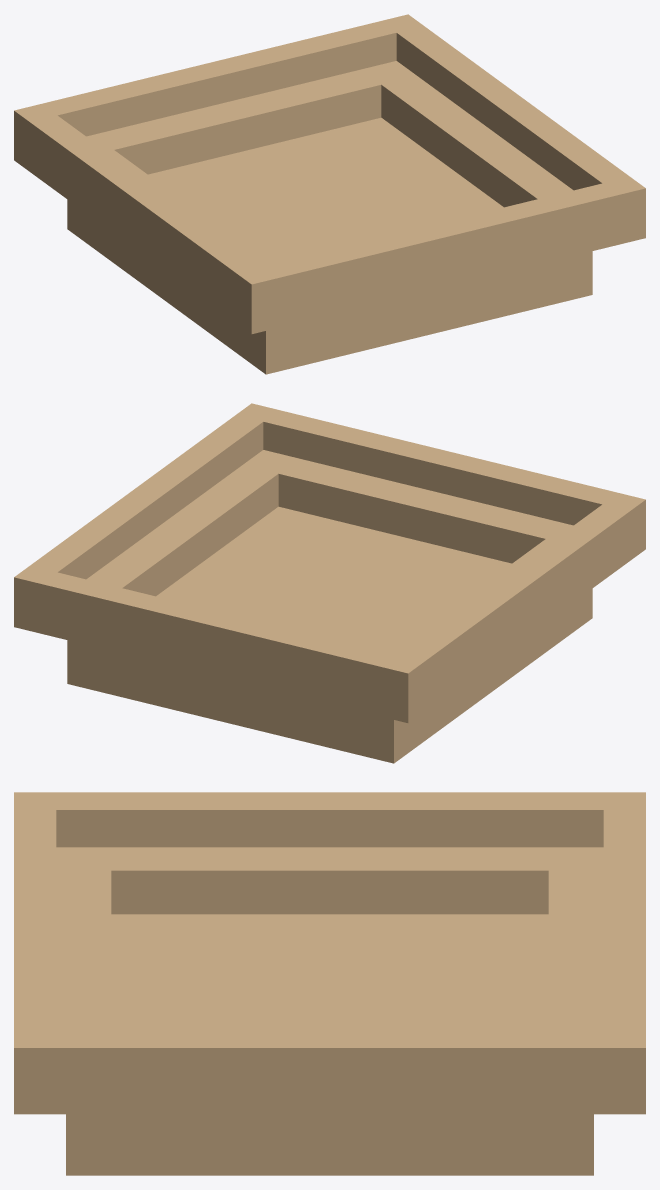
The model's file is nest.fbx.
3 renders of one model, top to bottom at view 1: azimuth 30°, elevation 25°; view 2: azimuth 150°, elevation 25°; view 3: azimuth 270°, elevation 25°, orthographic. The views are drawn at different scales.
Visible parts, largest first — view 1: zdq; view 2: zdq; view 3: zdq.
Boxes of the visible parts, box(x1,y1,x2,y2) form: zdq: box(14, 14, 645, 374); zdq: box(14, 403, 645, 763); zdq: box(14, 792, 645, 1175).
Bounding box in the file's own units: 191 × 52.03 × 199.
